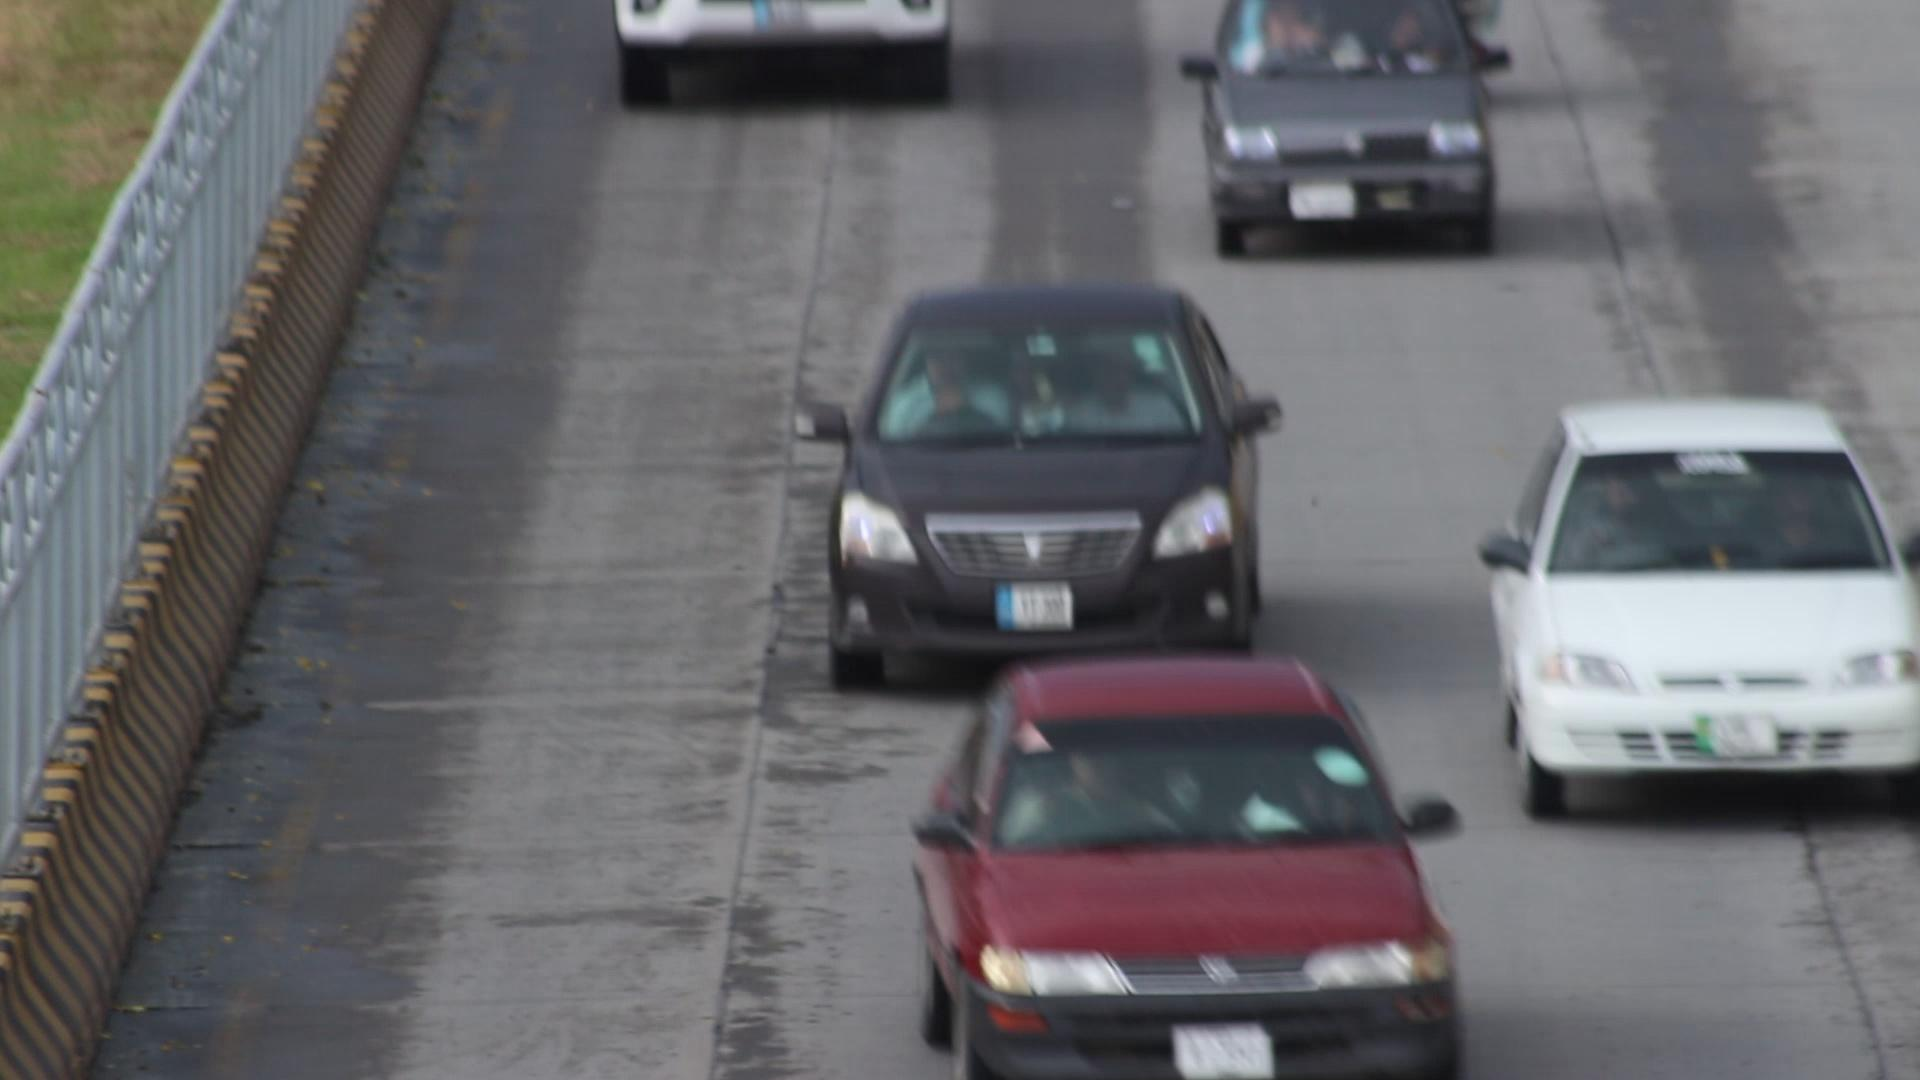windshield: (984, 694, 1420, 866), (1531, 427, 1911, 583), (870, 310, 1221, 440)
